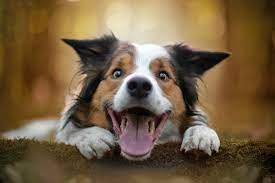Dog: (59, 31, 231, 162)
